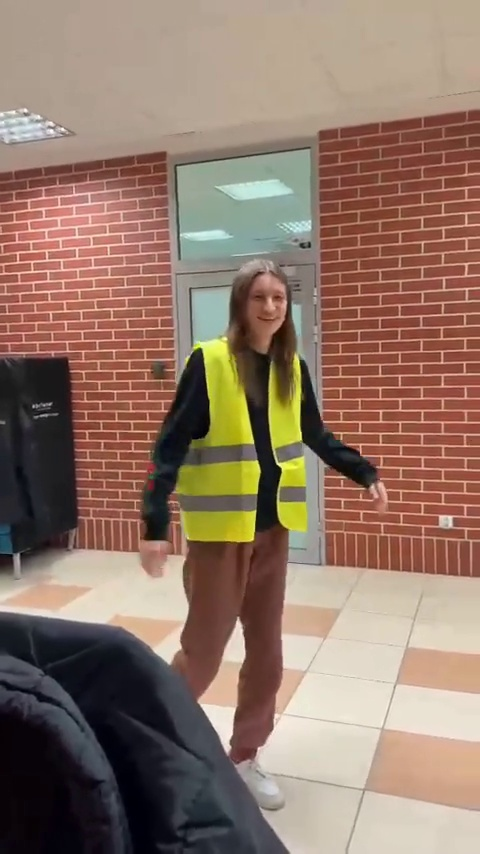vest: (157, 250, 354, 789)
